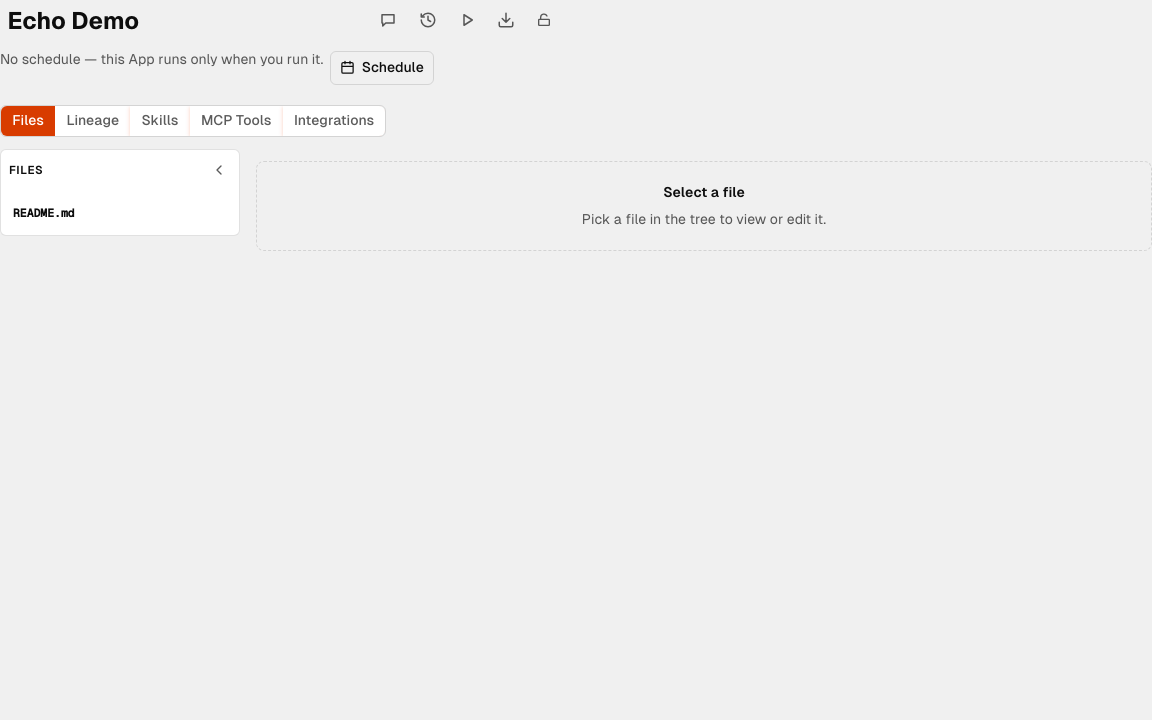
App IDE shell (POC-5d) › the Chat header action opens the agentic Chat & Edit drawer (with the edit gate)
Click the button with test id "app-detail-chat": (388, 20) [373,4,404,36]
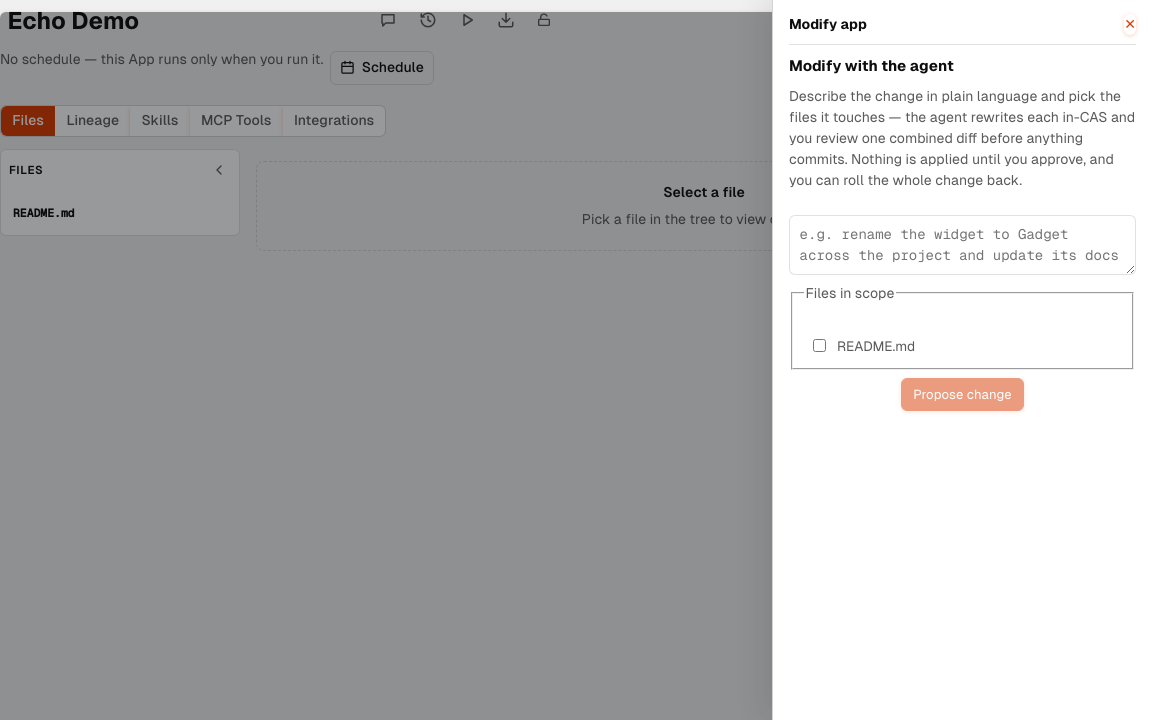
Expected: the dialog with test id "app-chat-drawer" is shown, [772,0,1151,719]
Expected: the element with test id "app-chat-edit" is shown, [789,44,1136,411]
Expected: the button with test id "app-edit-propose" is shown, [901,378,1024,411]
